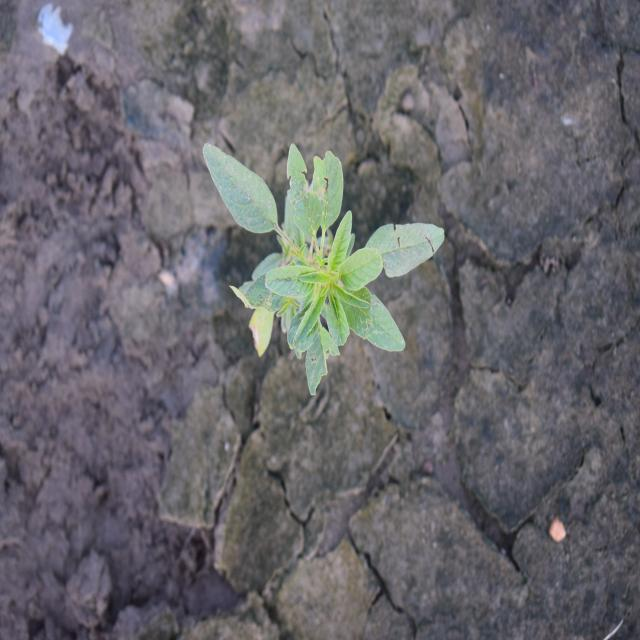Waterhemp: (201, 139, 446, 401)
